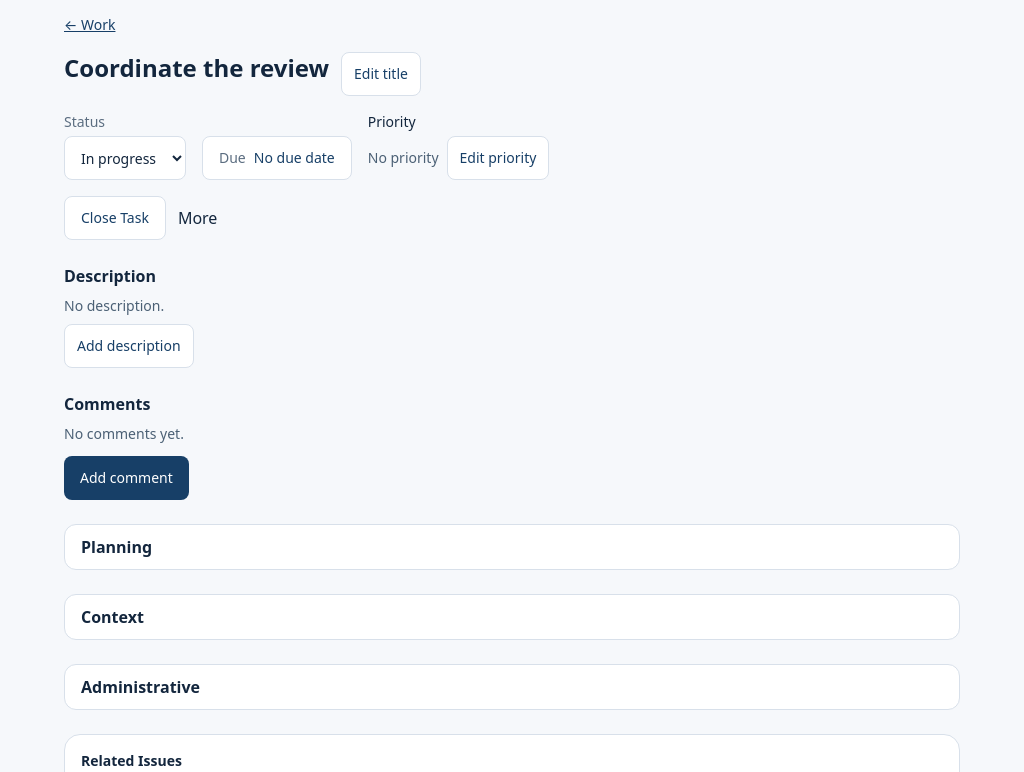
Test case: Task comments through the shared mutation coordinator › persists one comment and shows it in the thread
This screenshot has width=1024, height=772.
Click the button with test id "task-comments-add": (126, 478) [64,456,189,500]
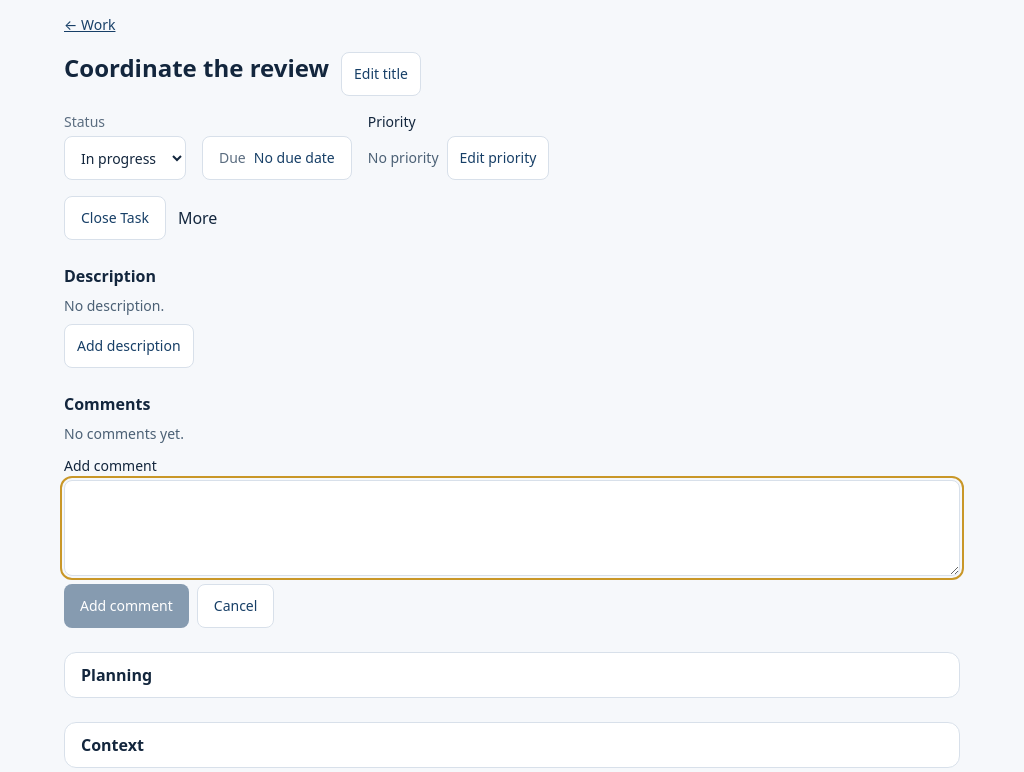
In the text box labelled "Add comment": (512, 528) [64,480,960,576], type "Reviewer confirmed the revised scope."
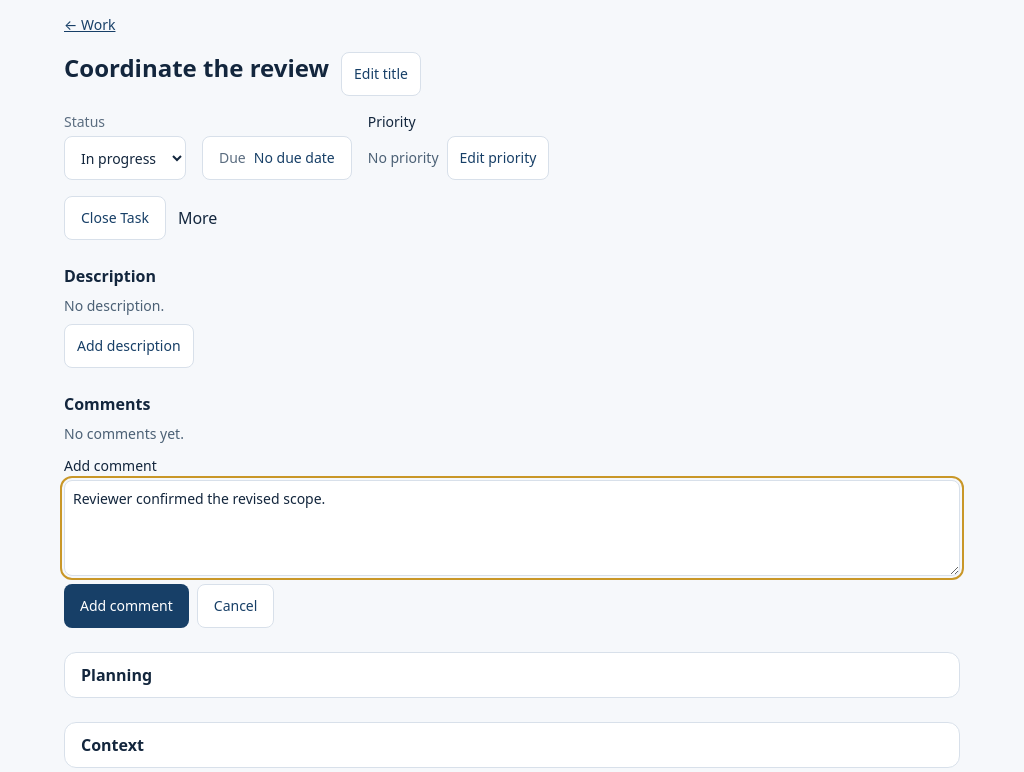
Click the button with test id "task-comments-submit": (126, 606) [64,584,189,628]
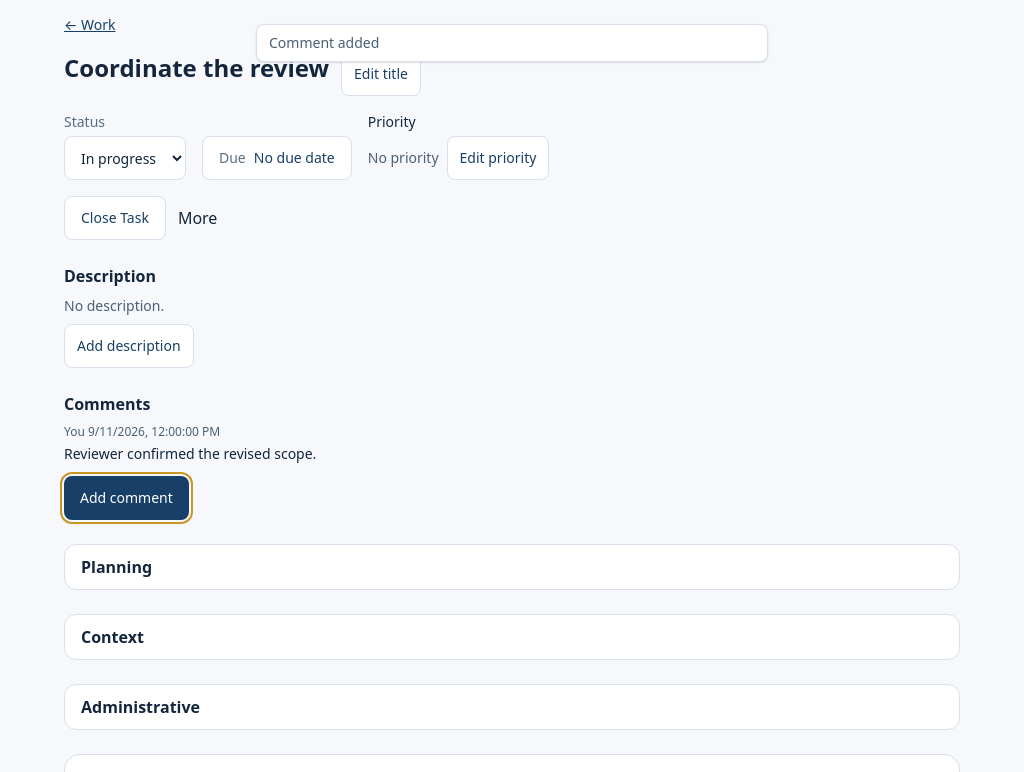
Expected: the text "Reviewer confirmed the revised scope." is shown, [64,444,316,463]
Expected: the text "Comment added" is shown, [269,33,379,52]
